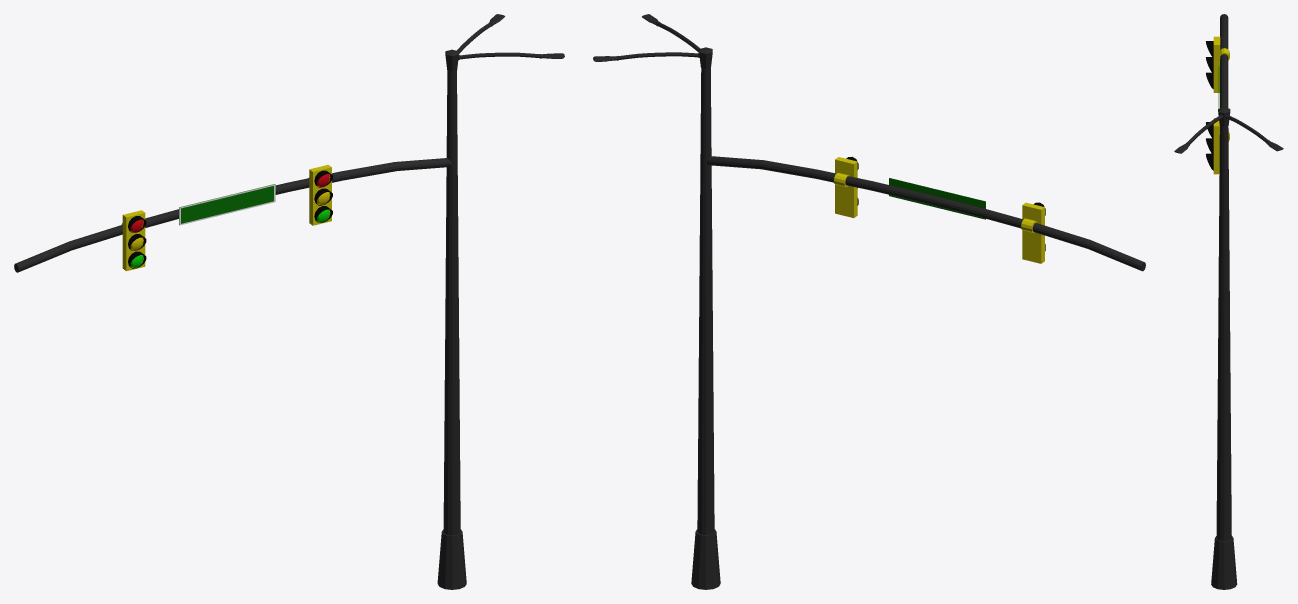
The model's file is TrafficLight.fbx.
3 views of the same model, side by side, from view 1: azimuth 30°, elevation 25°; view 2: azimuth 150°, elevation 25°; view 3: azimuth 270°, elevation 25° (orthographic). The views are drawn at different scales.
Parts seen in each view (by area): view 1: Cylinder, Plane, Cylinder.001, Cylinder.002; view 2: Cylinder, Cylinder.002, Cylinder.001, Plane; view 3: Cylinder, Cylinder.001, Cylinder.002, Cylinder.004, Cylinder.005, Cylinder.003.
Part boxes in pixels (<box>): Cylinder: <box>14,70,466,589</box>; Plane: <box>179,184,275,225</box>; Cylinder.001: <box>121,210,146,271</box>; Cylinder.002: <box>308,165,332,225</box>; Cylinder: <box>691,68,1145,589</box>; Cylinder.002: <box>834,156,858,217</box>; Cylinder.001: <box>1021,202,1045,263</box>; Plane: <box>889,178,985,219</box>; Cylinder: <box>1211,14,1237,589</box>; Cylinder.001: <box>1206,36,1229,92</box>; Cylinder.002: <box>1206,118,1229,174</box>; Cylinder.004: <box>1225,114,1283,151</box>; Cylinder.005: <box>1174,114,1223,153</box>; Cylinder.003: <box>1218,107,1230,126</box>.
Size of the model in its own units: 1734 by 1685 by 352.
